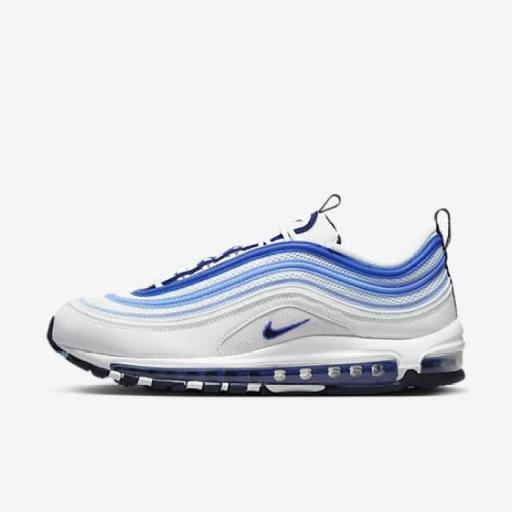Nike: (257, 315, 315, 346)
